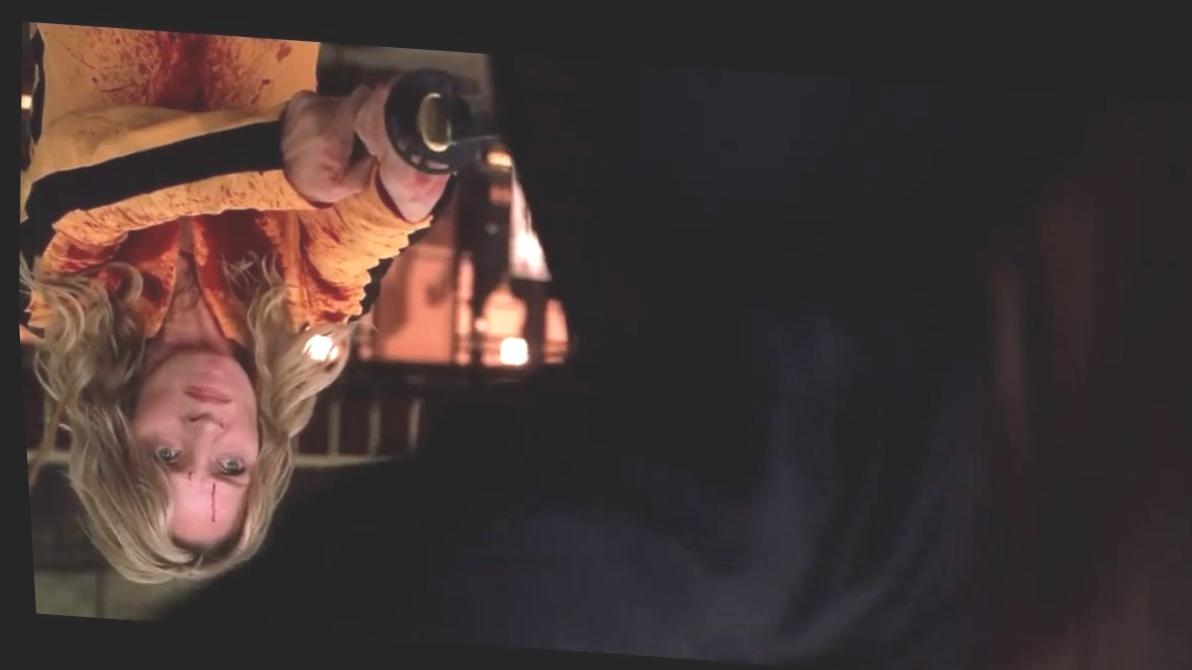Fire: (16, 24, 360, 345), (315, 140, 349, 183), (199, 483, 217, 523), (175, 470, 191, 480)
